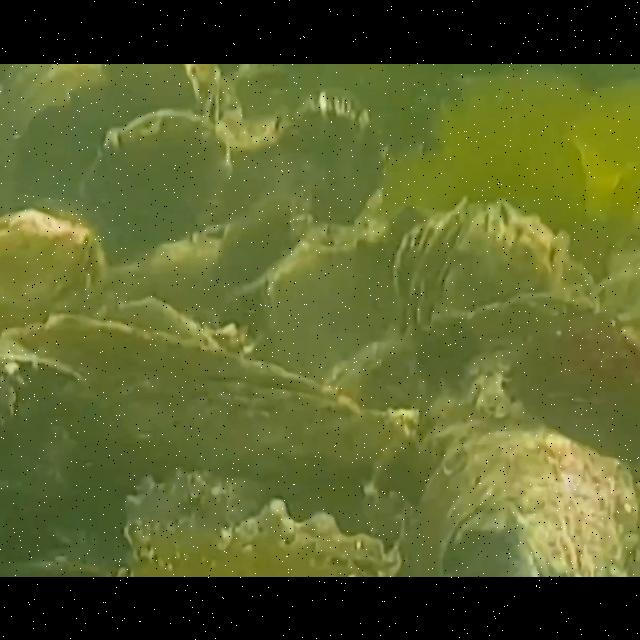Oyster-Closed: (11, 310, 362, 472), (322, 286, 612, 414), (406, 422, 640, 576), (122, 466, 402, 576), (392, 197, 572, 337), (81, 108, 233, 262), (259, 227, 399, 385), (275, 91, 389, 233), (0, 204, 108, 332)
